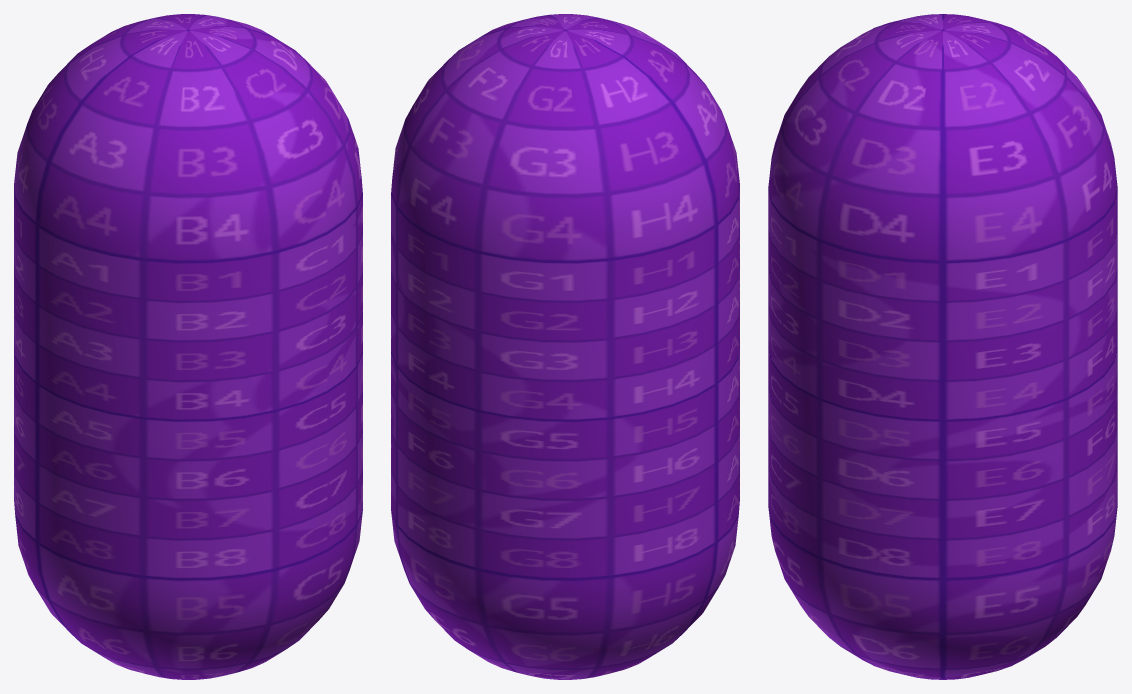
The model's file is CapsuleA.obj.
3 views of the same model, side by side, from view 1: azimuth 30°, elevation 25°; view 2: azimuth 150°, elevation 25°; view 3: azimuth 270°, elevation 25° (orthographic).
Visible parts, largest first — view 1: CapsuleA; view 2: CapsuleA; view 3: CapsuleA.
Part boxes in pixels (x1=…): CapsuleA: x1=14, y1=14, x2=362, y2=679; CapsuleA: x1=391, y1=14, x2=739, y2=679; CapsuleA: x1=768, y1=14, x2=1117, y2=679.
Bounding box in the file's own units: 2 × 4 × 2.
1 material, 1 textured.
